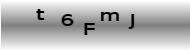6: (59, 13, 74, 27)
F: (83, 22, 96, 36)
J: (127, 13, 137, 30)
m: (99, 10, 121, 22)
t: (34, 8, 45, 21)
